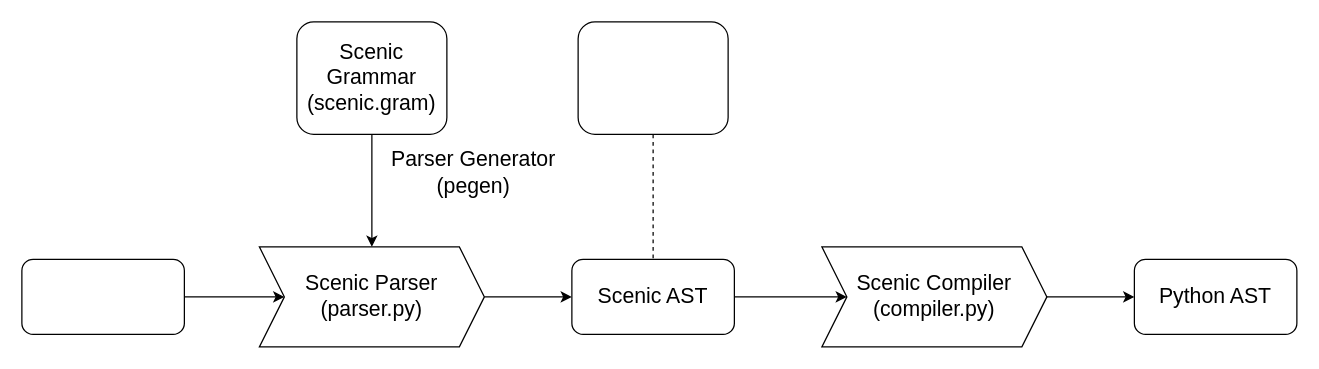
Some shapes in this 1319 by 369 pixel diagram are drawn without their labels. Here are the shapes that lost their labels. From the top down, the box of each, then its label:
(577, 21, 728, 134): Scenic AST Nodes (ast.py)
(21, 258, 184, 334): Scenic Source
